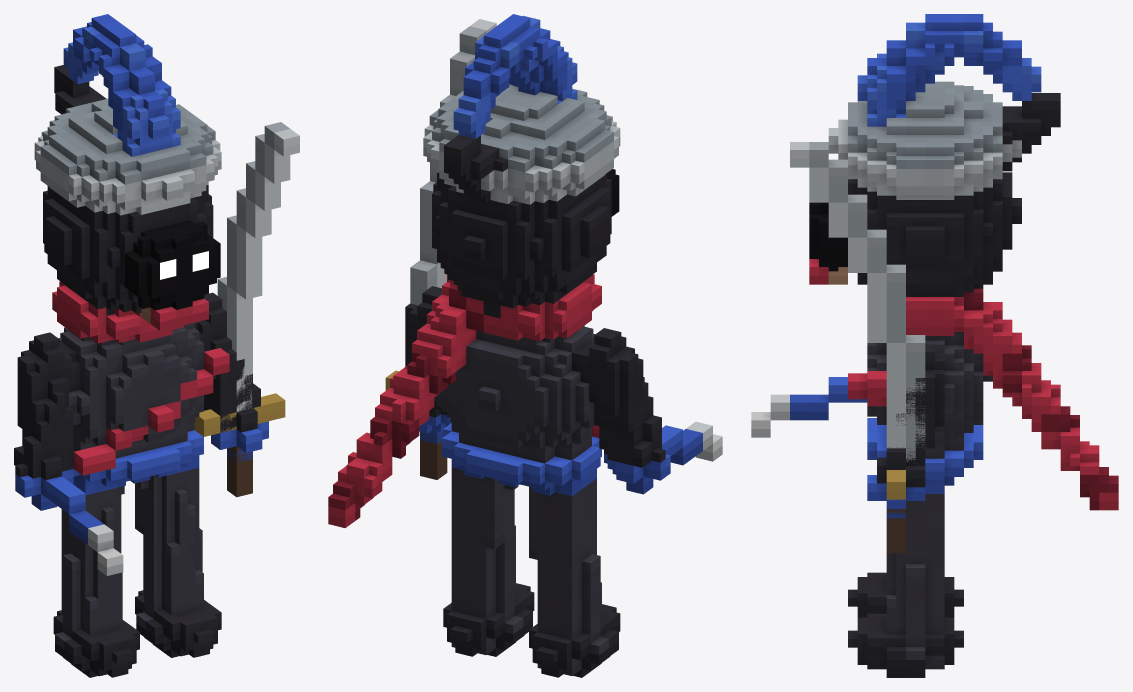
The model's file is u_lame__garde.glb.
3 views of the same model, side by side, from view 1: azimuth 30°, elevation 25°; view 2: azimuth 150°, elevation 25°; view 3: azimuth 270°, elevation 25° (orthographic). The views are drawn at different scales.
Parts seen in each view (by area): view 1: lame_body, lame_weapon, lame_glow; view 2: lame_body, lame_weapon; view 3: lame_body, lame_weapon.
Boxes of the visible parts, left/top/right/bottom form: lame_body: left=14, top=14, right=268, bottom=677; lame_weapon: left=194, top=122, right=299, bottom=497; lame_glow: left=160, top=251, right=208, bottom=279; lame_body: left=328, top=14, right=722, bottom=677; lame_weapon: left=385, top=19, right=496, bottom=479; lame_body: left=751, top=14, right=1118, bottom=677; lame_weapon: left=790, top=142, right=925, bottom=553.
Bounding box in the file's own units: 0.8 × 1.8 × 0.95.
